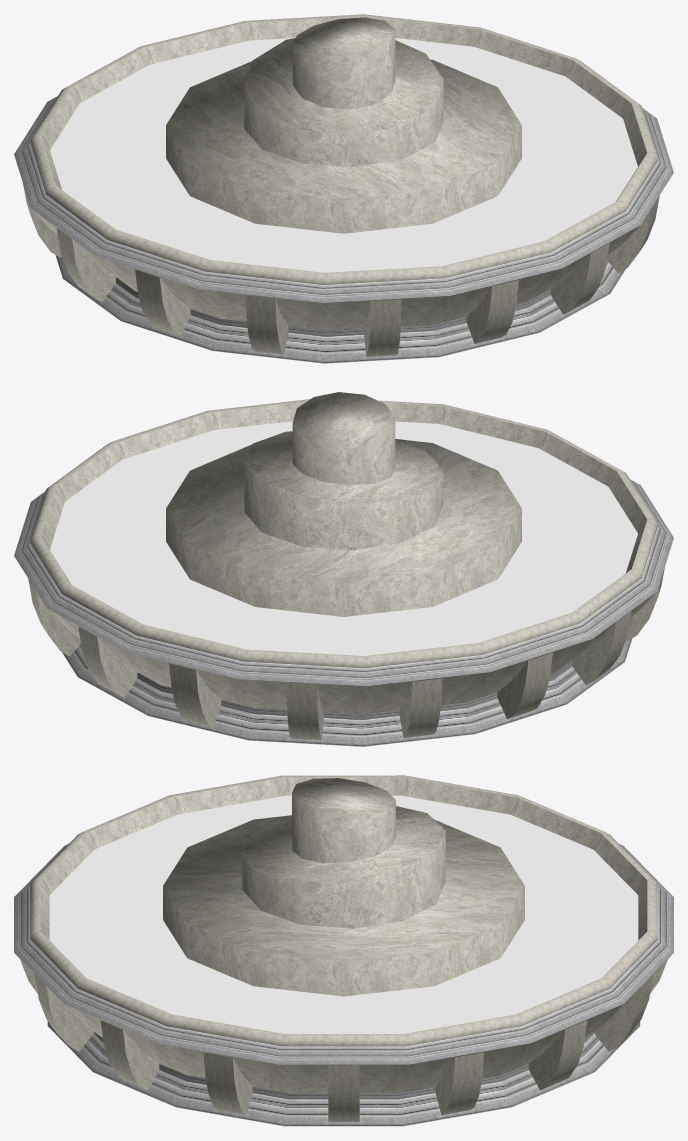
File: thm_corl_fountain_circle_s01_l0.fbx
3 views of the same model, one above another, from view 1: azimuth 30°, elevation 25°; view 2: azimuth 150°, elevation 25°; view 3: azimuth 270°, elevation 25° (orthographic).
Visible parts, largest first — view 1: mesh_node; view 2: mesh_node; view 3: mesh_node.
Boxes of the visible parts, x1,y1,x2,y2 form: mesh_node: [14, 14, 673, 363]; mesh_node: [14, 392, 673, 746]; mesh_node: [14, 775, 673, 1126].
Size of the model in its own units: 7.85 by 2.85 by 7.85.
